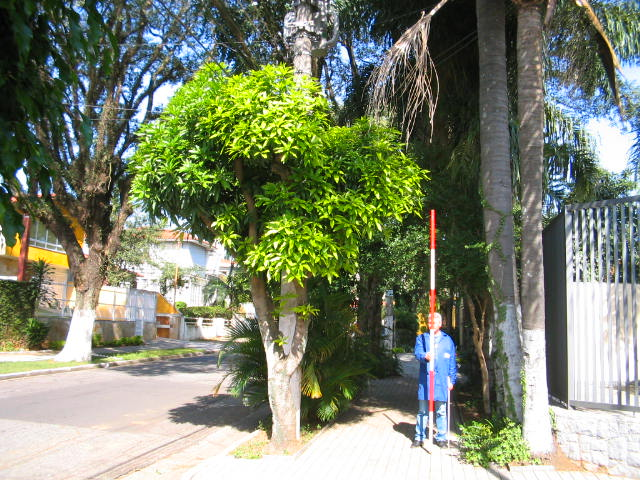crown: (133, 64, 424, 294)
stem: (52, 262, 115, 360), (254, 356, 316, 448)
stick: (420, 209, 448, 453)
tree: (131, 63, 423, 449), (4, 6, 175, 360)
